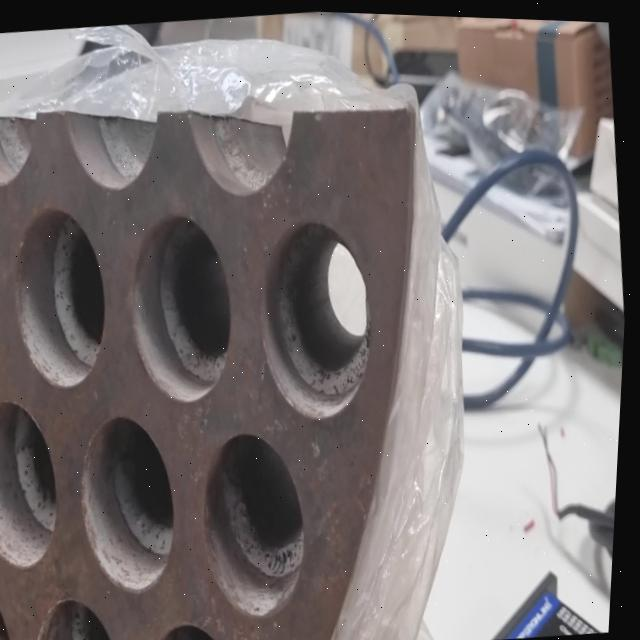Hole: (249, 208, 387, 424), (117, 203, 247, 407), (196, 423, 321, 621), (4, 200, 120, 393), (73, 406, 190, 597), (0, 393, 72, 572), (36, 587, 131, 640), (149, 612, 242, 640), (0, 569, 25, 640), (0, 198, 5, 372)
